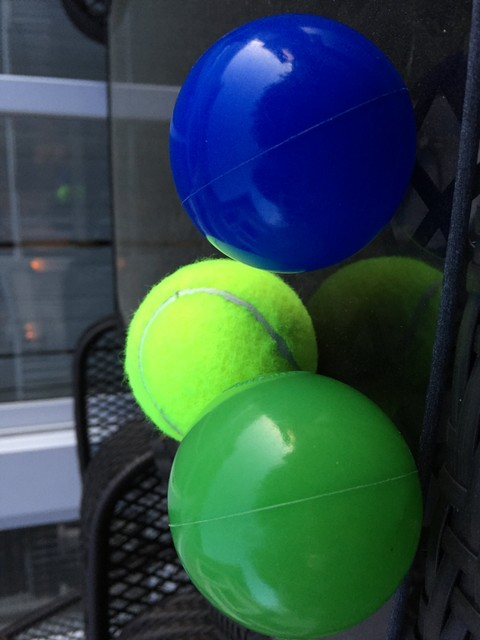Ball: (169, 378, 423, 627)
